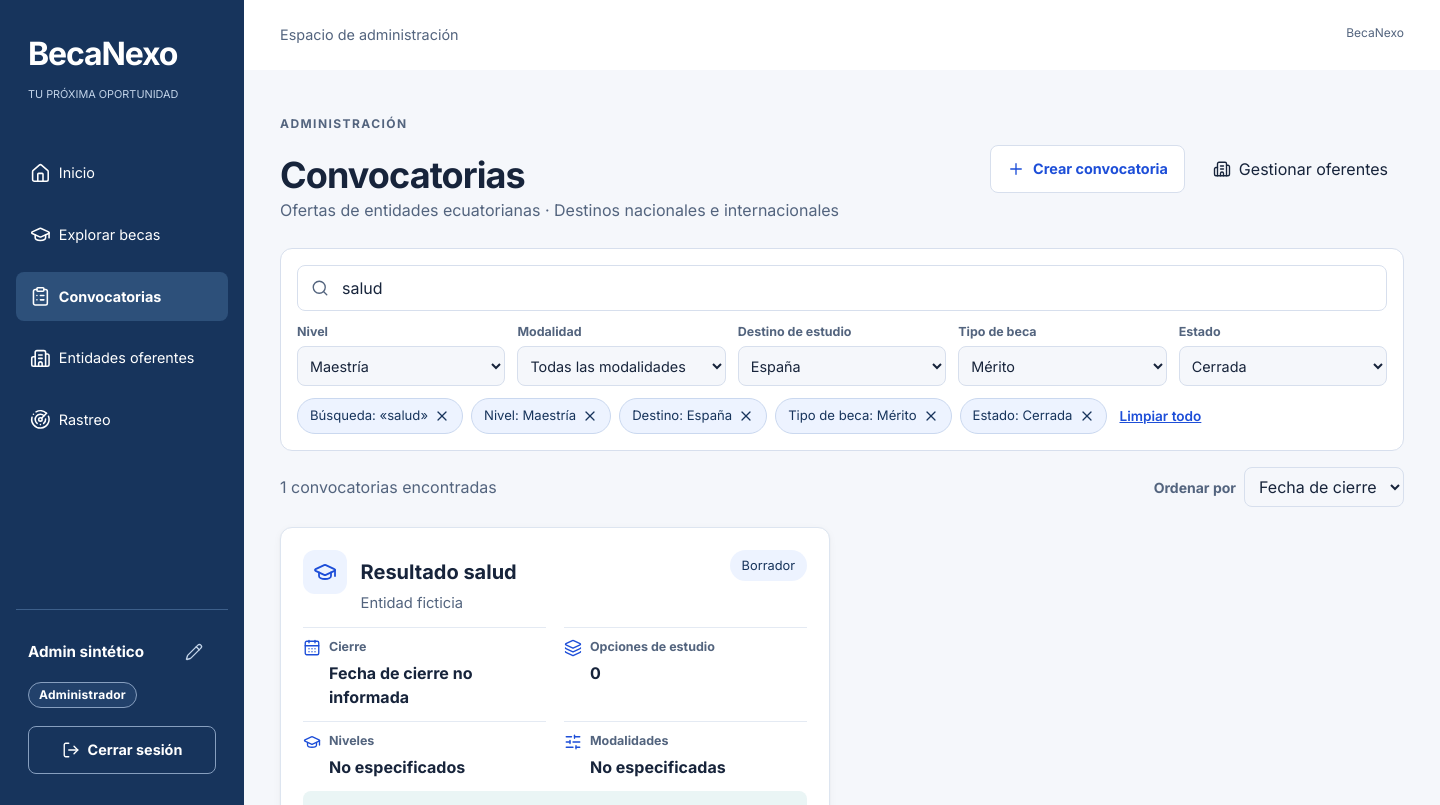
muestra fichas con botón para quitar cada filtro y «Limpiar todo» solo con filtros activos
Expected: the list items read "Búsqueda: «salud»", "Nivel: Maestría", "Destino: España", "Tipo de beca: Mérito", "Estado: Cerrada", in this order, [297,398,463,434]; [471,398,611,434]; [619,398,767,434]; [775,398,952,434]; [960,398,1108,434]
Click the button named "Quitar filtro Estado: Cerrada" at (1090, 416), box [1074,401,1104,431]
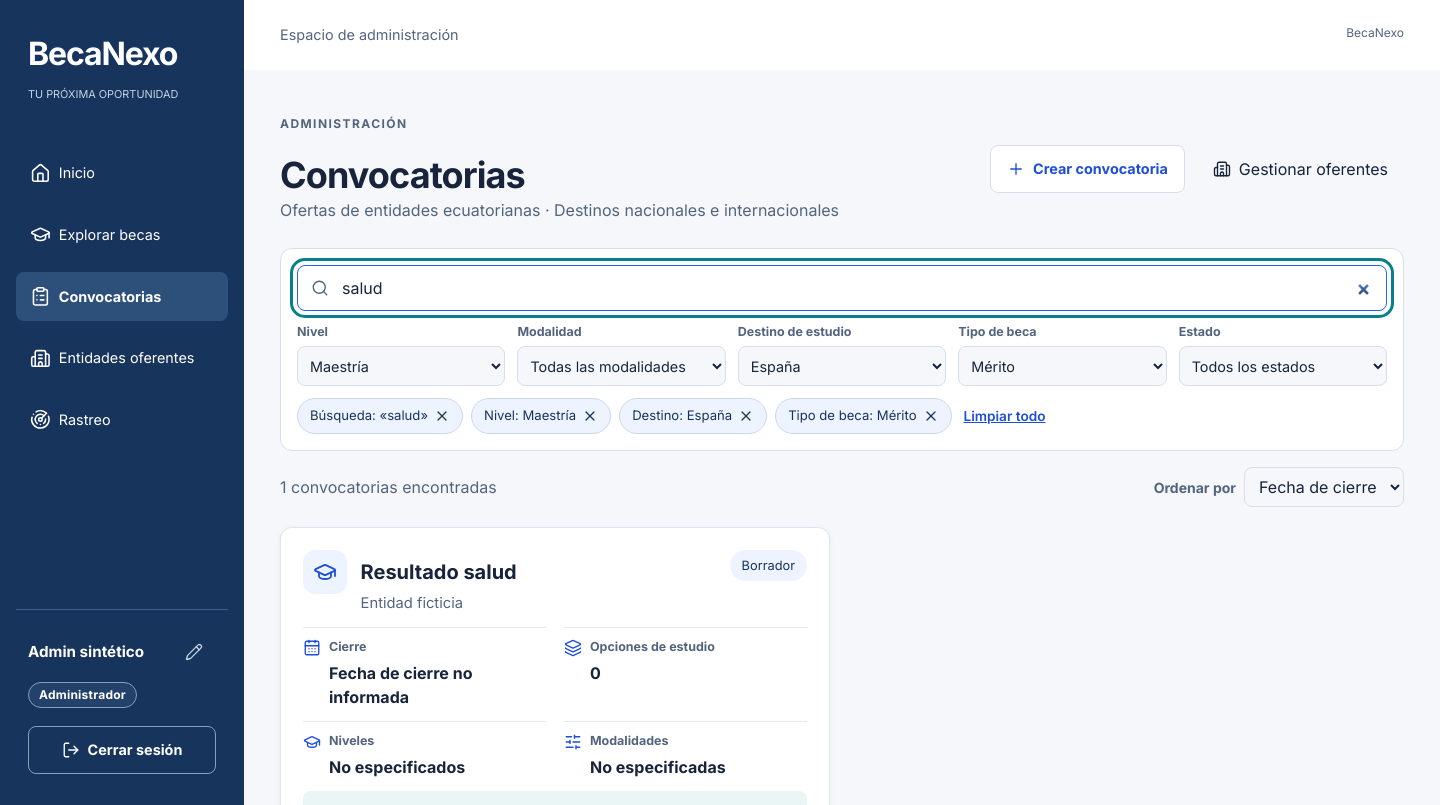
Expected: the dropdown labelled "Estado" shows "Todos los estados", [1179,346,1387,386]
Click the button "Limpiar todo" at (1005, 416), box [960,400,1050,432]
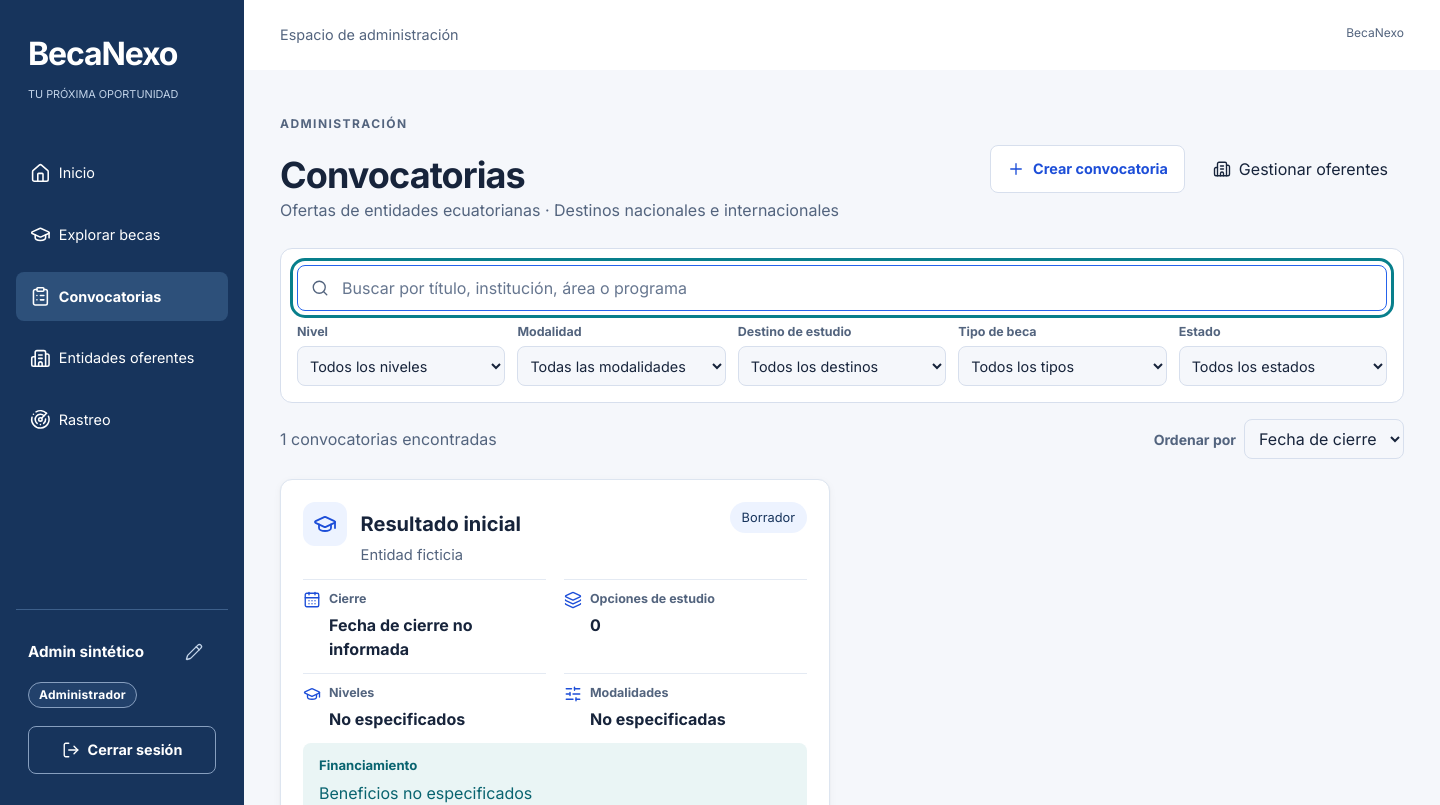
Expected: the search field named "Buscar título, institución, área, descripción o programa" is empty, [297,265,1387,311]
Expected: the button "Limpiar todo" is gone
